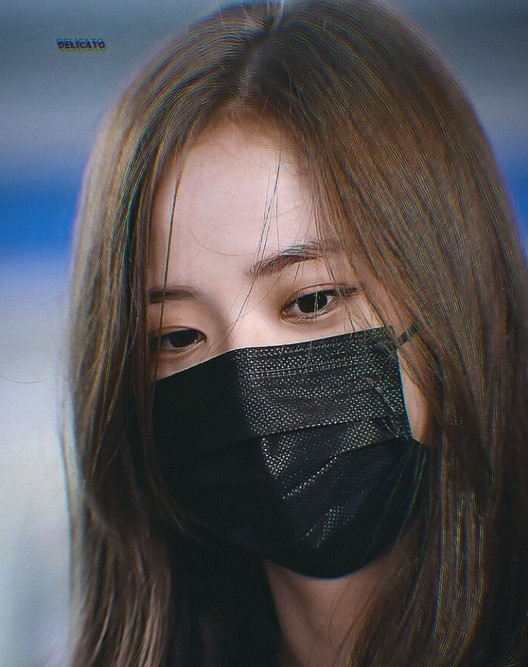face_with_mask: (65, 9, 506, 579)
